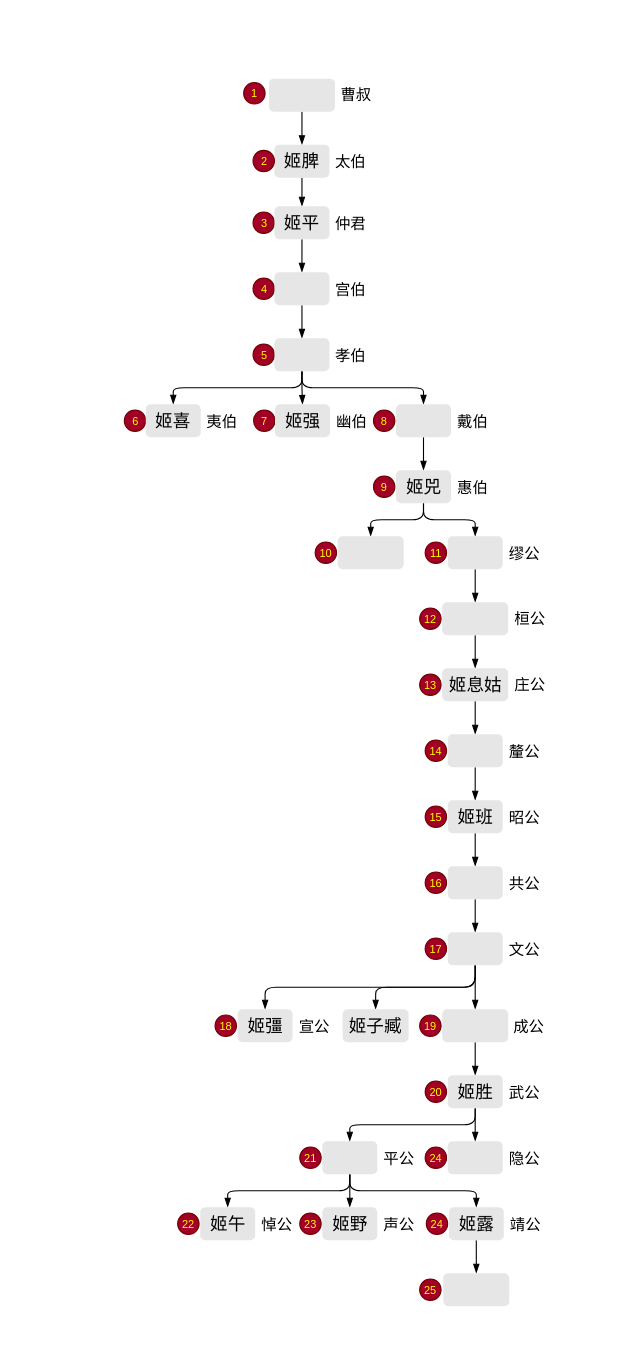
This 642x1357 diagram has some shape labels left out. The shapes that lost their labels are listed below. From the top down, each one's centre as x and y in pixels, then its label:
the point at 301,94: 姬振铎
the point at 301,288: 姬侯
the point at 301,354: 姬云
the point at 422,420: 姬苏
the point at 370,552: 姬石甫
the point at 474,552: 姬武
the point at 475,618: 姬终生
the point at 474,750: 姬夷
the point at 474,882: 姬襄
the point at 474,948: 姬寿
the point at 475,1025: 姬负刍
the point at 349,1157: 姬须
the point at 474,1157: 姬通
the point at 476,1289: 姬伯阳
